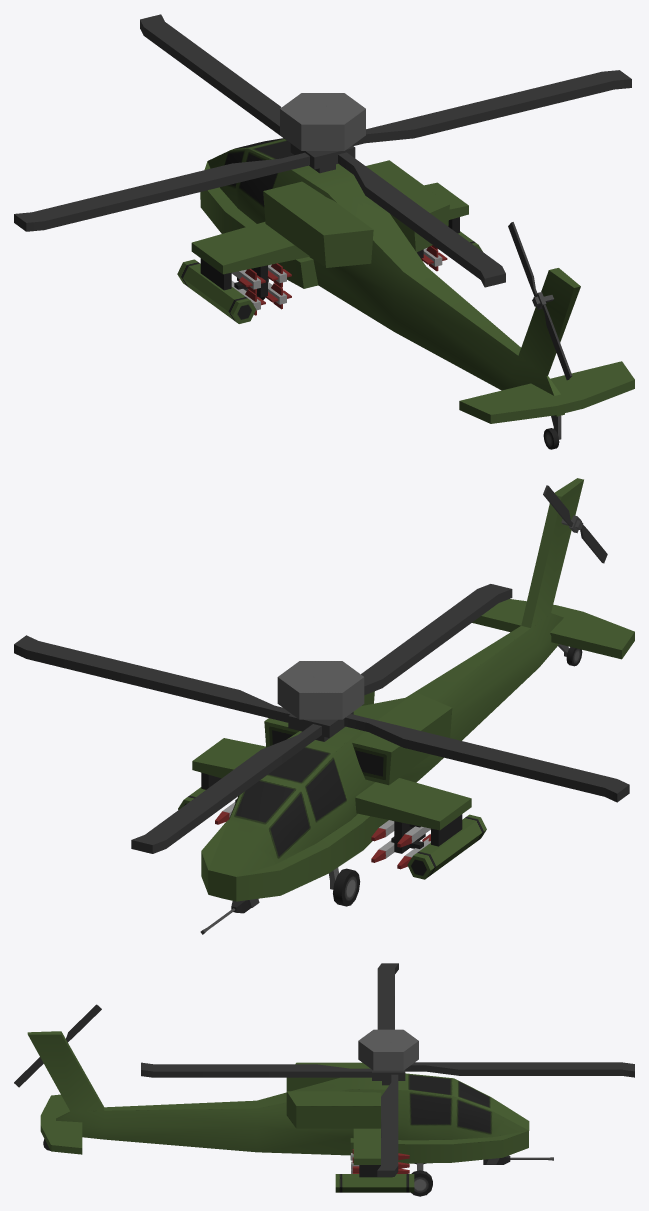
Rendered from AttackHelicopter.fbx.
3 views of the same model, one above another, from view 1: azimuth 30°, elevation 25°; view 2: azimuth 150°, elevation 25°; view 3: azimuth 270°, elevation 25° (orthographic). The views are drawn at different scales.
Visible parts, largest first — view 1: Attack Helicopter; view 2: Attack Helicopter; view 3: Attack Helicopter.
Part boxes in pixels (box(x1,y1,x2,y2)): Attack Helicopter: box(14, 14, 634, 449); Attack Helicopter: box(14, 478, 634, 934); Attack Helicopter: box(14, 963, 634, 1196).
Bounding box in the file's own units: 5188 × 1981 × 6582.
